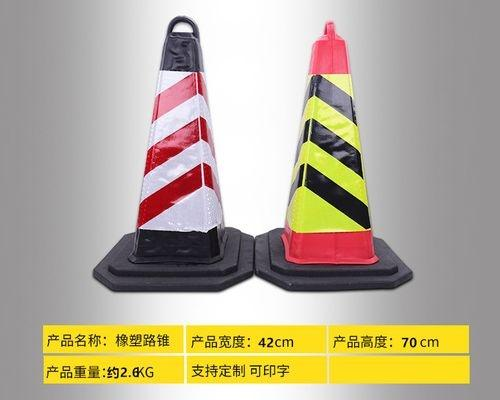cone_barrel: (114, 19, 243, 272), (267, 30, 393, 274)
